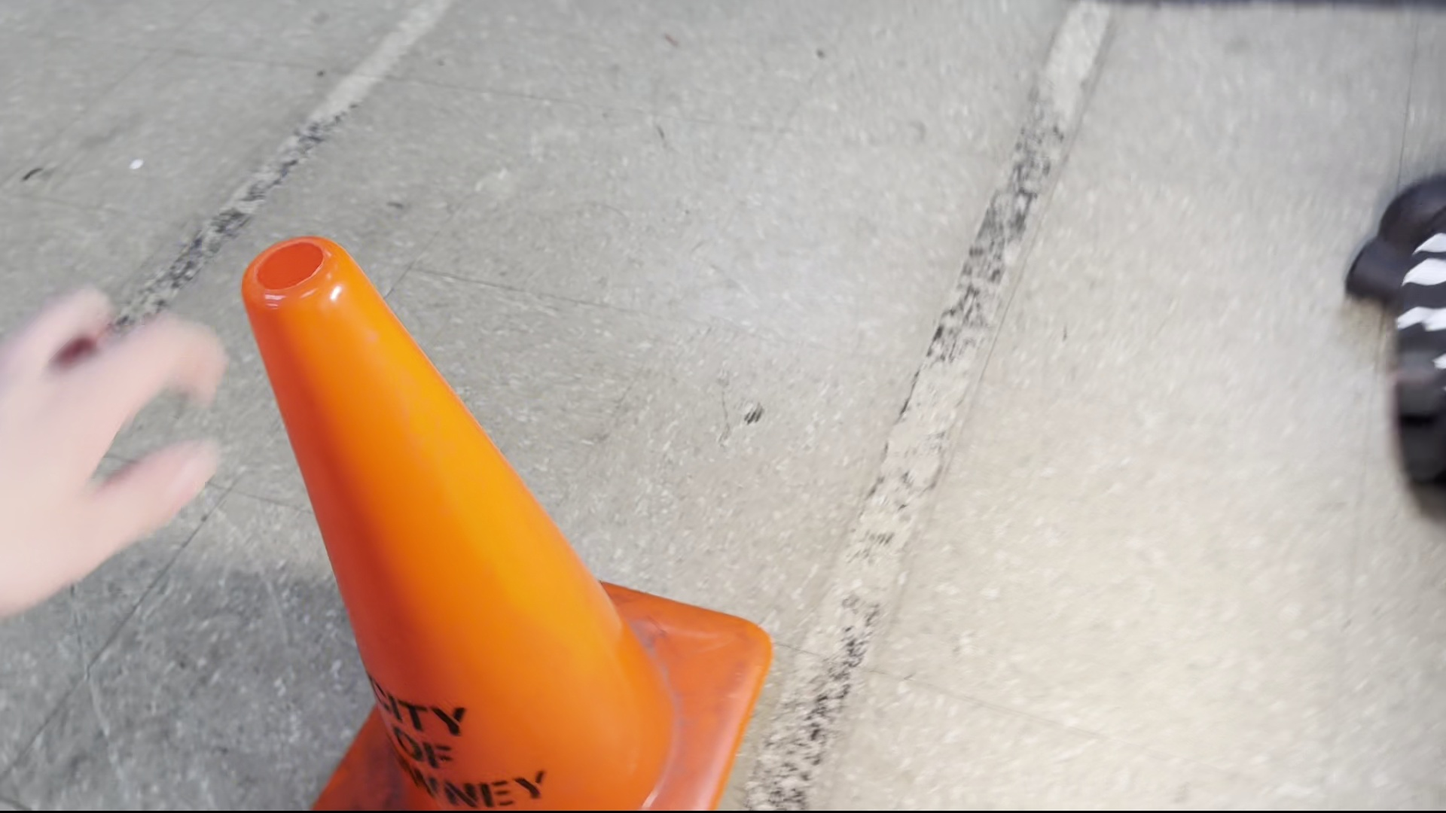traffic_cone: (239, 233, 773, 810)
